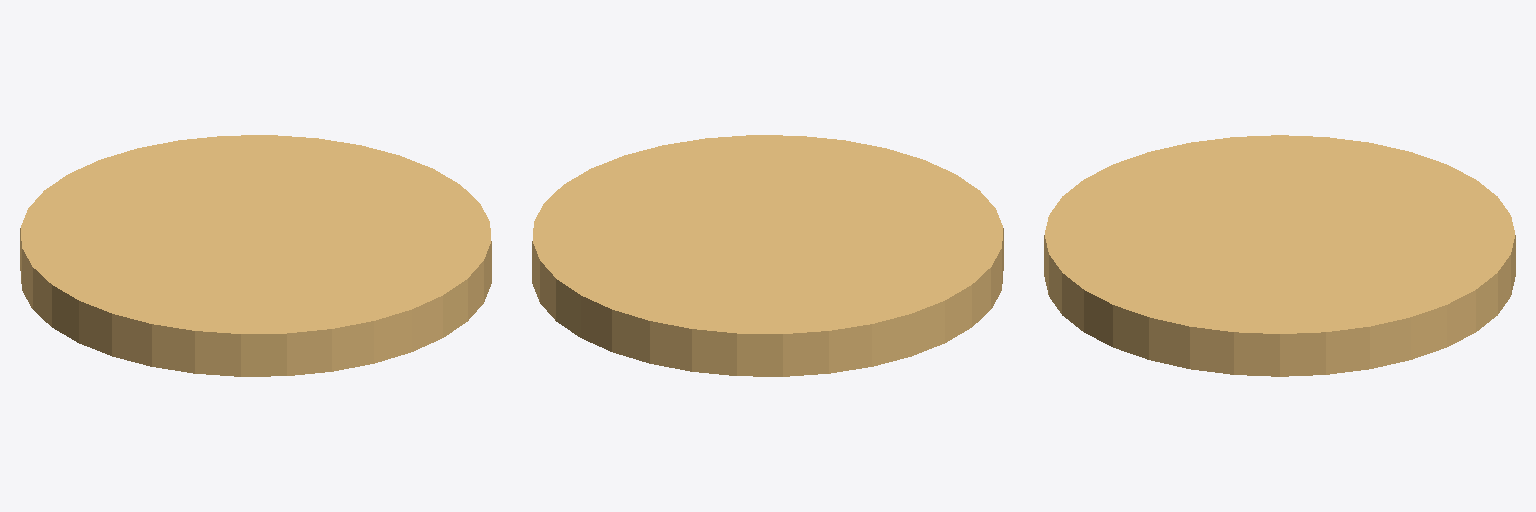
The robot description file, URDF, robot "panfood.urdf":
<?xml version="1.0" ?>
<robot name="panfood.urdf">
  <material name="Caramel">
    <color rgba=".95 .8 .54 1"/>
  </material>
  <link name="base_link">
    <contact>
      <lateral_friction value="1.0"/>
    </contact>
    <inertial>
      <origin rpy="0 0 0" xyz="0 0 0"/>
      <mass value=".0"/>
      <inertia ixx="1" ixy="0" ixz="0" iyy="1" iyz="0" izz="1"/>
    </inertial>
    <visual>
      <geometry>
		<cylinder radius=".1" length=".02"/>
      </geometry>
      <material name="Caramel"/>
    </visual>
    <collision>
      <geometry>
		<cylinder radius=".1" length=".02"/>
      </geometry>
    </collision>
  </link>
</robot>

--- What the picture shows (computed from the rendered views, not written in the file) ---
Views: 3 orthographic renders of the robot side by side, from view 1: azimuth 30°, elevation 25°; view 2: azimuth 150°, elevation 25°; view 3: azimuth 270°, elevation 25°.
Robot: panfood.urdf — 1 links, 0 joints (none); root link base_link; default pose: every joint at zero.
Visible links, largest first — view 1: base_link; view 2: base_link; view 3: base_link.
Boxes of the visible links, bbox=[...] form: base_link: bbox=[20, 135, 491, 376]; base_link: bbox=[532, 135, 1003, 376]; base_link: bbox=[1044, 135, 1515, 376].
Bounding box of the posed robot: 0.2 × 0.2 × 0.02 m (x, y, z).
Geometry: primitives only (box / cylinder / sphere), no mesh files.
